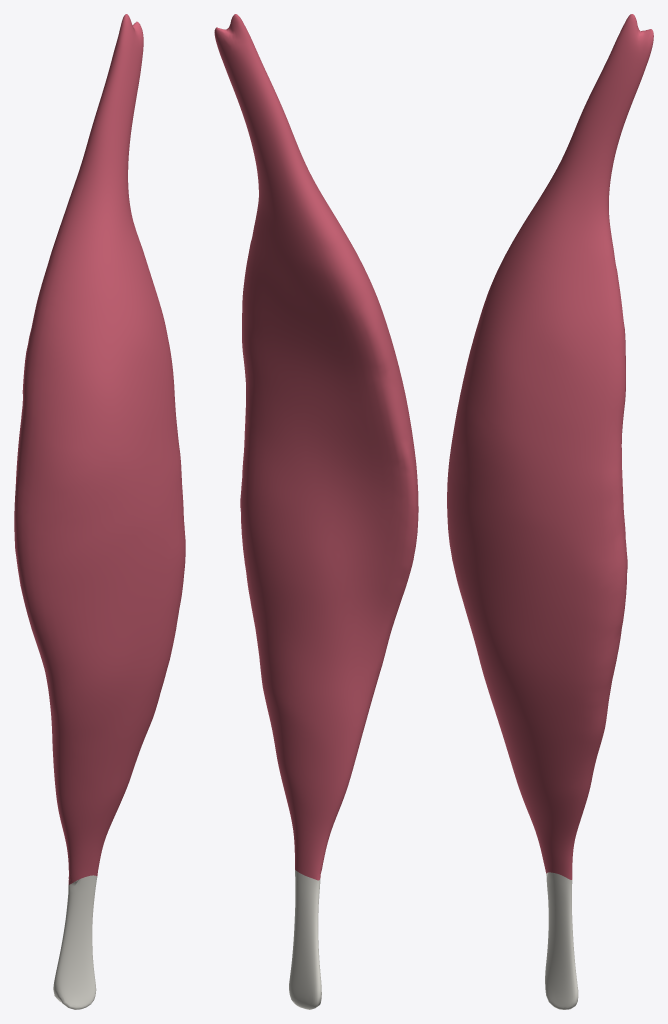
File: VH_F_Muscles_Knee_R.glb
The picture shows the model from 3 angles, left to right: view 1: azimuth 30°, elevation 25°; view 2: azimuth 150°, elevation 25°; view 3: azimuth 330°, elevation 25°; orthographic projection. The views are drawn at different scales.
Parts seen in each view (by area): view 1: VH_F_rectus_femoris_R, VH_F_tendon_of_quadriceps_femoris_R; view 2: VH_F_rectus_femoris_R, VH_F_tendon_of_quadriceps_femoris_R; view 3: VH_F_rectus_femoris_R, VH_F_tendon_of_quadriceps_femoris_R.
Boxes of the visible parts, box(x1,y1,x2,y2) form: VH_F_rectus_femoris_R: box(14, 14, 185, 884); VH_F_tendon_of_quadriceps_femoris_R: box(53, 875, 97, 1009); VH_F_rectus_femoris_R: box(214, 14, 418, 880); VH_F_tendon_of_quadriceps_femoris_R: box(289, 870, 321, 1009); VH_F_rectus_femoris_R: box(447, 14, 653, 879); VH_F_tendon_of_quadriceps_femoris_R: box(545, 872, 578, 1009).
Bounding box in the file's own units: 0.0733 × 0.4034 × 0.0471.
